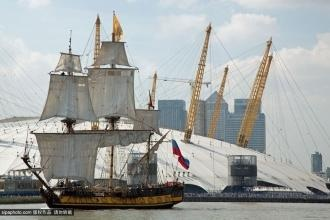fanchuan: (33, 12, 187, 209)
